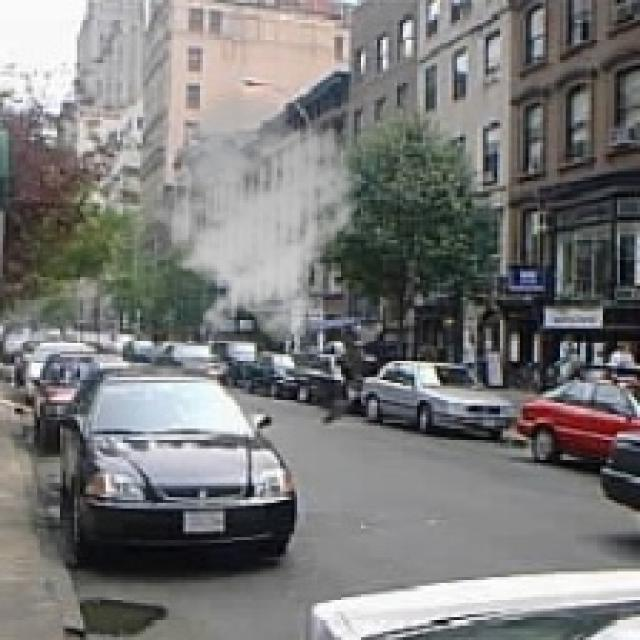Smoke: (140, 91, 372, 346)
